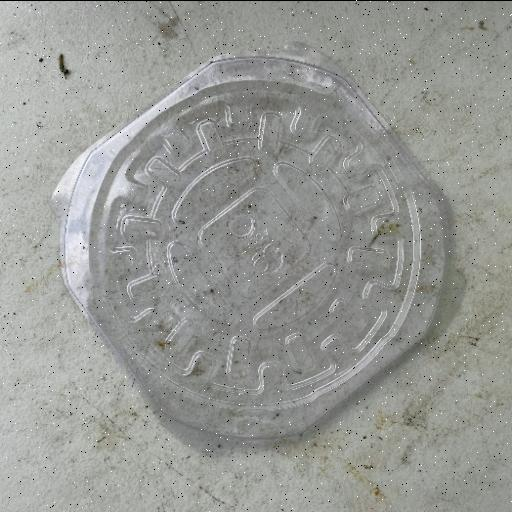Plastic: (54, 49, 450, 447)
